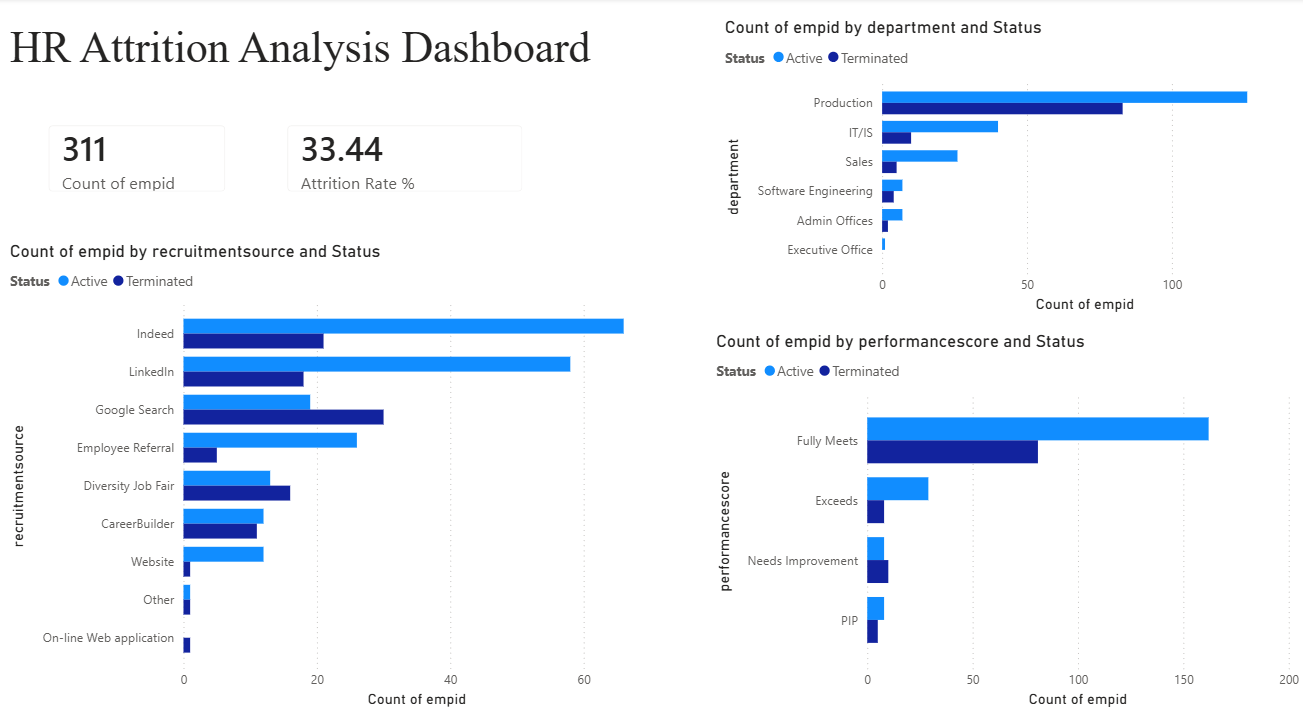

What the dashboard file says about the page in this screenshot:
{"tool":"powerbi","page":{"name":"Dashboard","canvas":[1280,720],"ordinal":0},"visuals":[{"type":"cardVisual","fields":{"Data":["CountNonNull(public employees.empid)"]},"box":[35.1,107.9,207.8,99.8],"z":0},{"type":"cardVisual","fields":{"Data":["public employees.Attrition Rate %"]},"box":[268.5,107.9,264.4,99.8],"z":1000},{"type":"clusteredBarChart","fields":{"Category":["public employees.department"],"Series":["public employees.Status"],"Y":["CountNonNull(public employees.empid)"]},"box":[709.6,18.9,570.7,294.1],"z":2000},{"type":"clusteredBarChart","fields":{"Category":["public employees.recruitmentsource"],"Series":["public employees.Status"],"Y":["CountNonNull(public employees.empid)"]},"box":[9.4,237.4,643.5,461.4],"z":3000},{"type":"clusteredBarChart","fields":{"Category":["public employees.performancescore"],"Series":["public employees.Status"],"Y":["CountNonNull(public employees.empid)"]},"box":[700.2,325.1,580.1,373.7],"z":4000},{"type":"textbox","box":[9.4,18.9,700.2,64.8],"z":5000}]}

Visuals, with their boxes in screenshot pixels (x1, y1, x2, y2), scaled from the page's 1280x720 canvas onto the 1303x728 screenshot:
cardVisual - CountNonNull(public employees.empid): (36,109,247,210)
cardVisual - public employees.Attrition Rate %: (273,109,542,210)
clusteredBarChart - public employees.department x public employees.Status: (722,19,1302,316)
clusteredBarChart - public employees.recruitmentsource x public employees.Status: (10,240,665,707)
clusteredBarChart - public employees.performancescore x public employees.Status: (713,329,1302,707)
textbox: (10,19,722,85)
